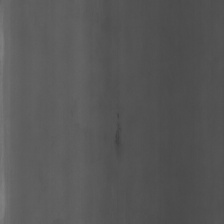water_spot: (111, 108, 126, 152)
